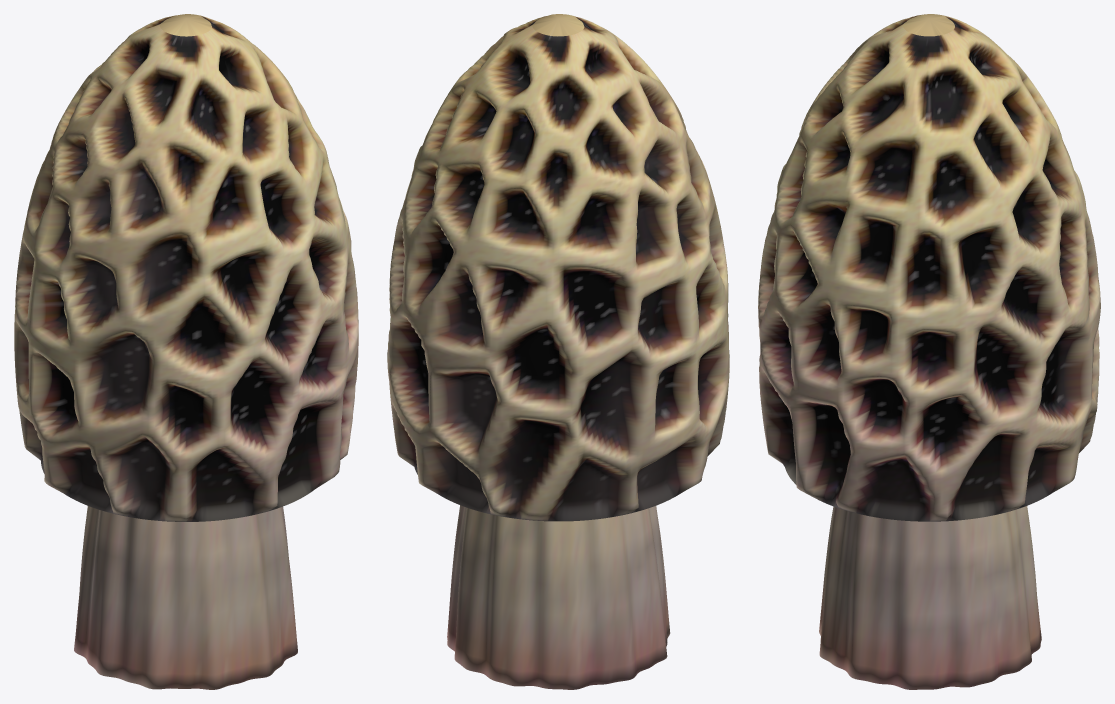
File: morel_ziplama.glb
3 views of the same model, side by side, from view 1: azimuth 30°, elevation 25°; view 2: azimuth 150°, elevation 25°; view 3: azimuth 270°, elevation 25° (orthographic).
Visible parts, largest first — view 1: morel_ziplama_LOD0; view 2: morel_ziplama_LOD0; view 3: morel_ziplama_LOD0.
Boxes of the visible parts, left/top/right/bottom form: morel_ziplama_LOD0: left=14, top=14, right=358, bottom=689; morel_ziplama_LOD0: left=387, top=14, right=729, bottom=689; morel_ziplama_LOD0: left=758, top=14, right=1100, bottom=689.
Size of what is drawn, in the model's own units: 0.9987 by 2.02 by 0.9955.
